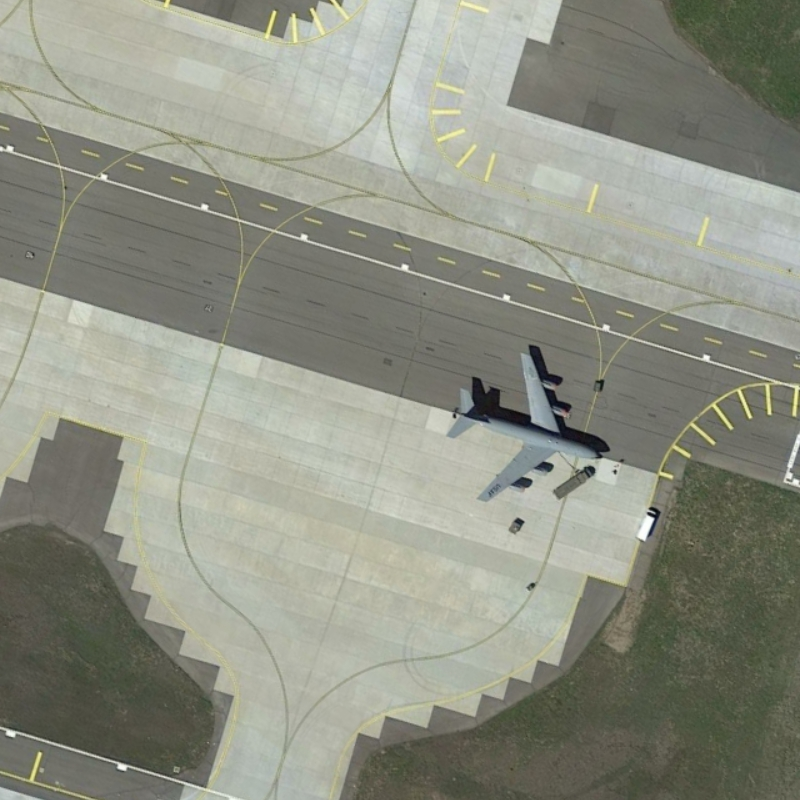A14: (441, 333, 614, 508)
